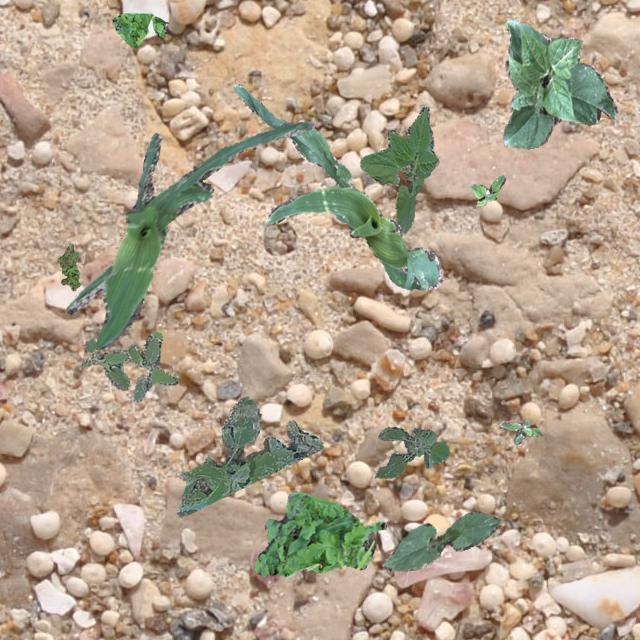crop: (65, 120, 314, 350), (234, 83, 442, 290), (502, 19, 616, 148), (360, 105, 438, 232), (382, 510, 499, 570)
weed: (175, 396, 322, 516), (254, 491, 386, 576), (80, 330, 176, 400), (374, 426, 448, 478), (111, 12, 166, 46), (56, 243, 80, 290), (470, 173, 504, 204), (500, 420, 540, 442)
